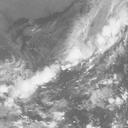cyclone: (60, 29, 109, 79)
